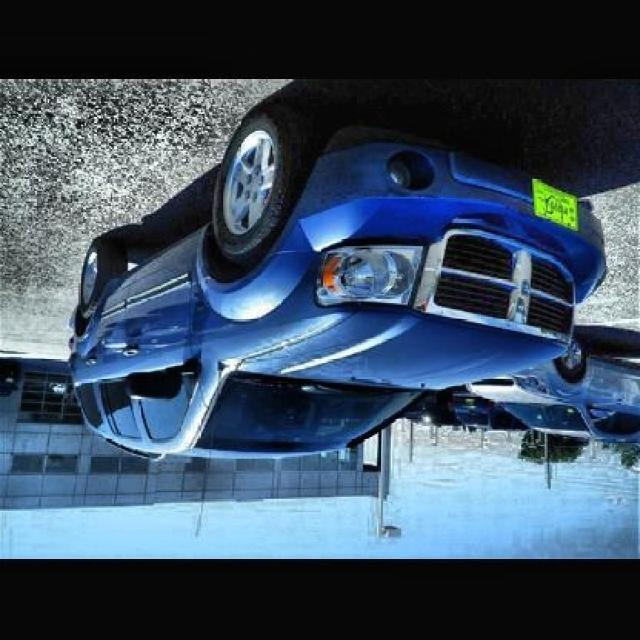maroon: (68, 132, 613, 462)
